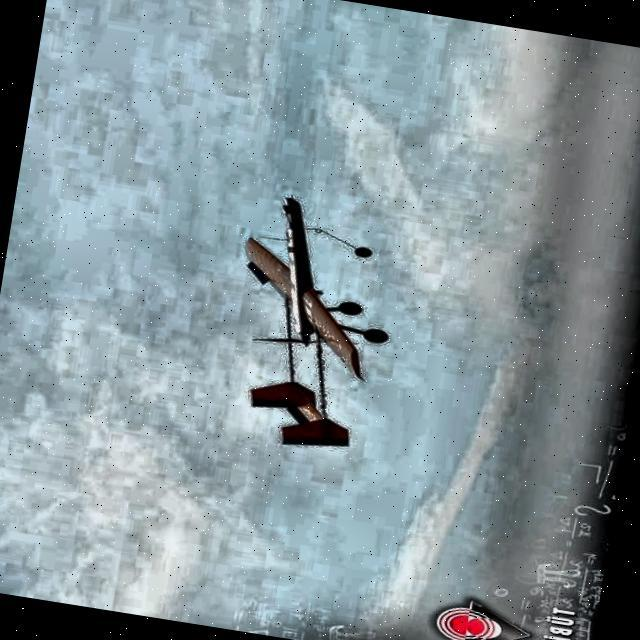iha: (180, 177, 420, 464)
